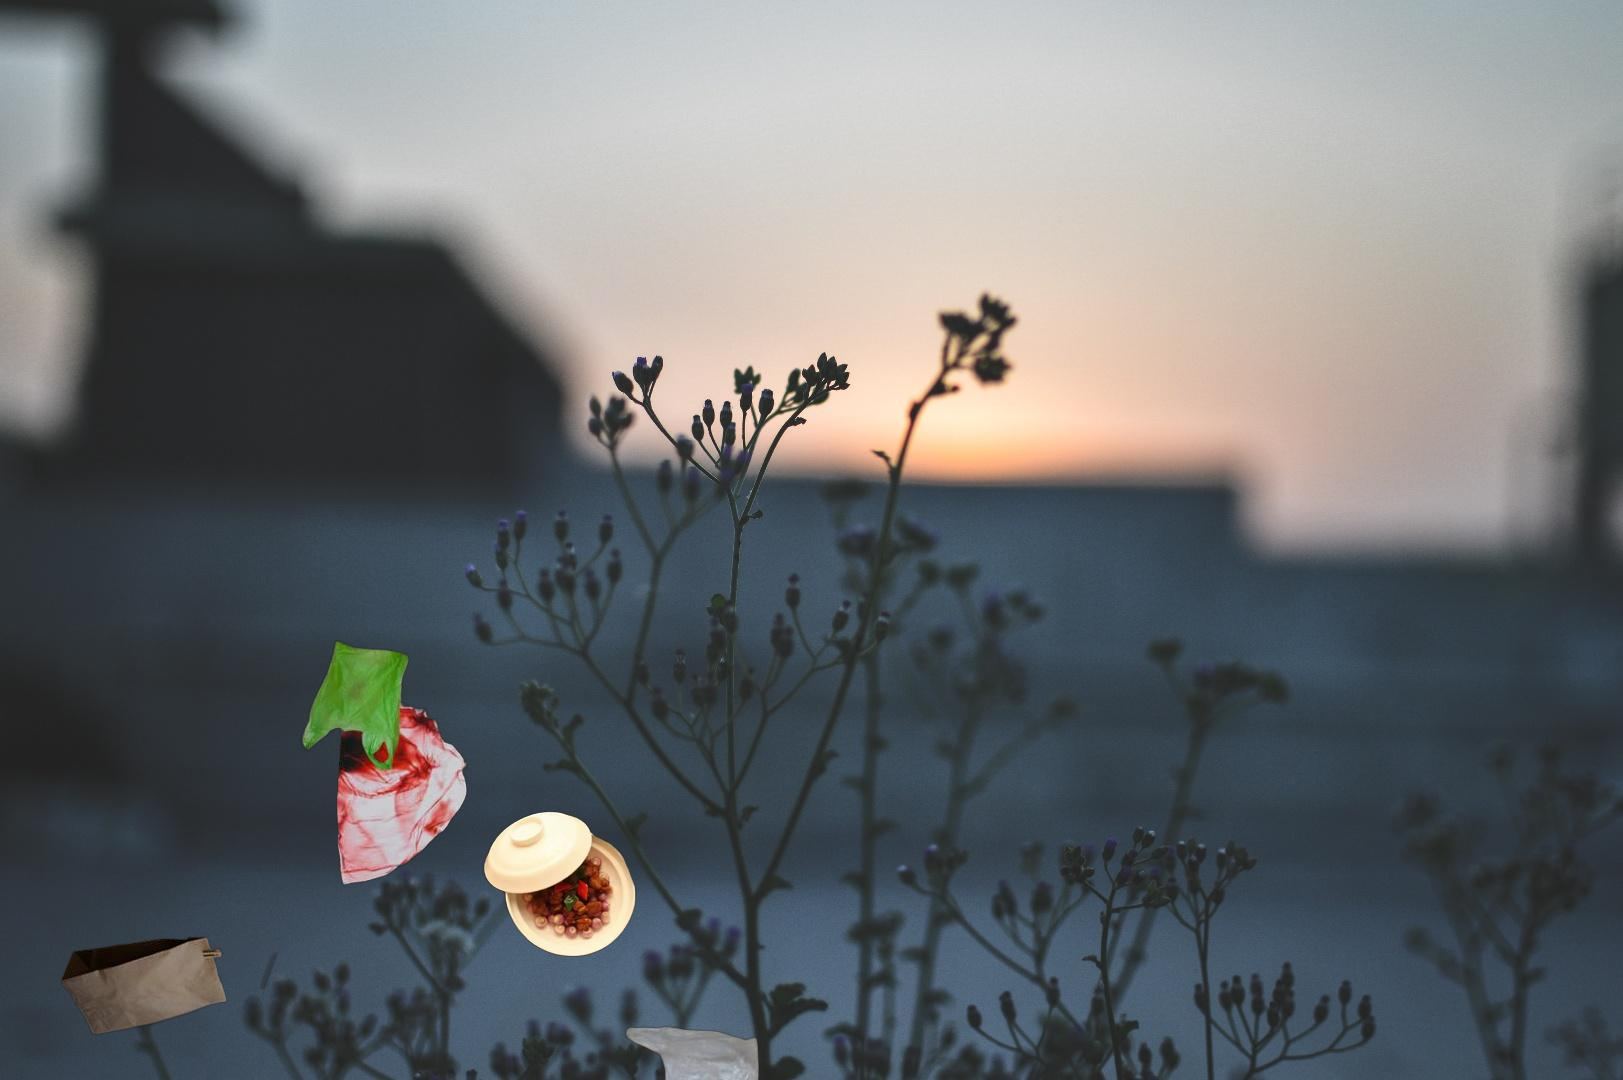biological: (480, 808, 722, 1038)
paper-bag: (58, 934, 280, 1037)
plastic-bag: (298, 638, 470, 890), (614, 1025, 761, 1080)
